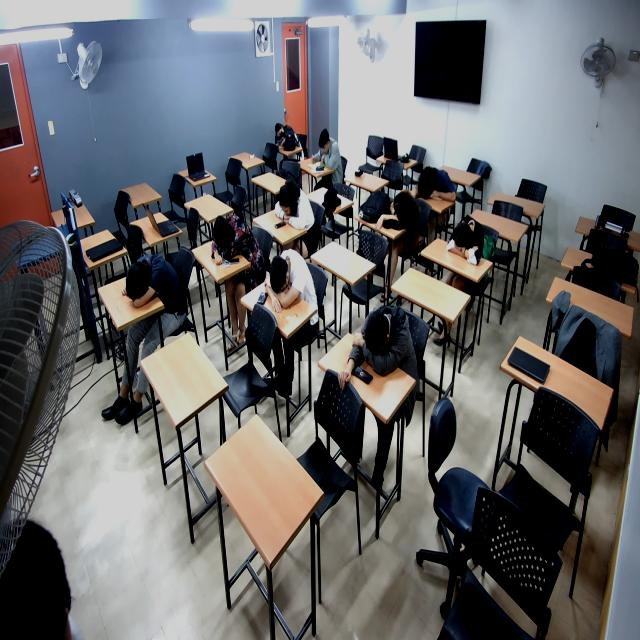sleep: (353, 303, 417, 378), (120, 253, 179, 308), (264, 250, 309, 314), (208, 212, 256, 264), (446, 215, 488, 272), (376, 191, 424, 239), (276, 181, 317, 231), (274, 120, 298, 155)
